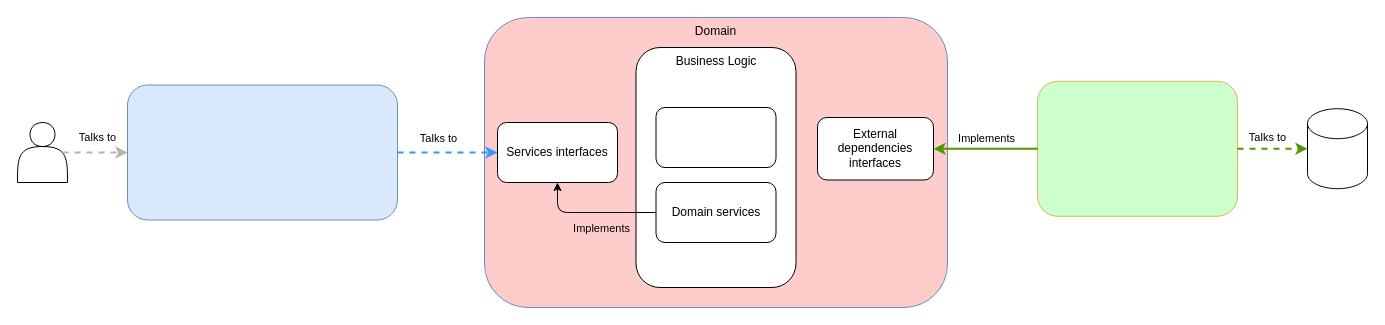
The diagram is 1385 pixels wide and 325 high, and some of its shapes have lost their labels. Here are the shapes that lost their labels. From the top down, the box of each, then its label:
(126, 84, 398, 220): Application
(655, 106, 776, 168): Entites
(1036, 80, 1238, 216): Infrastructure
